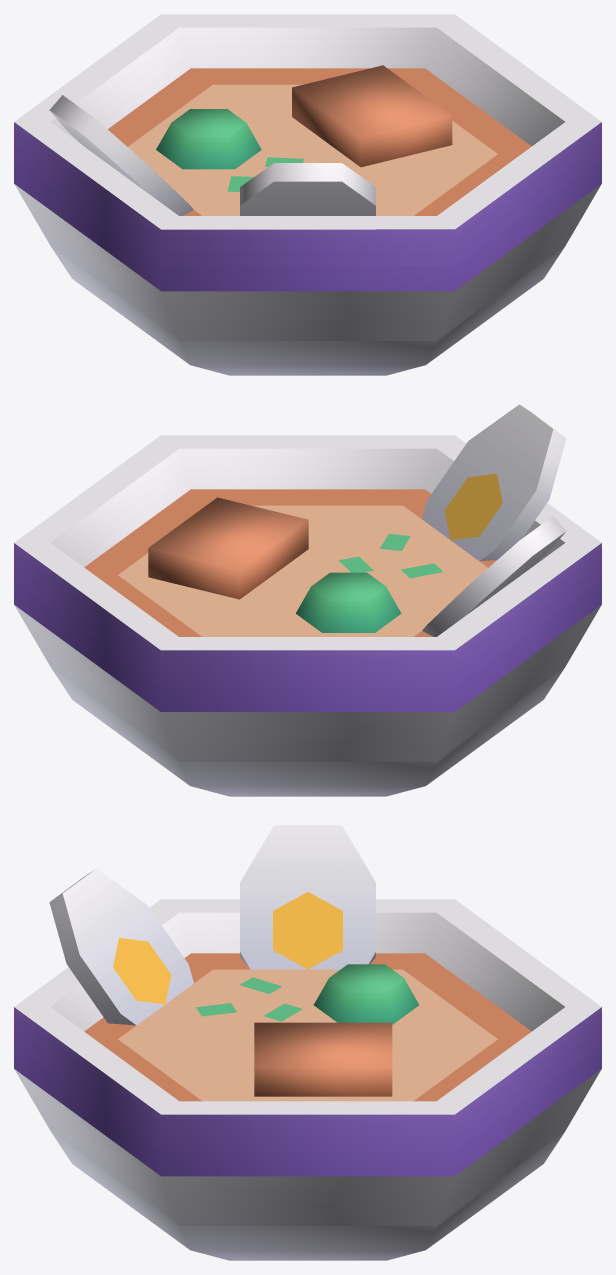
File: bowl-broth.068d942337.glb
3 renders of one model, top to bottom at view 1: azimuth 30°, elevation 25°; view 2: azimuth 150°, elevation 25°; view 3: azimuth 270°, elevation 25°, orthographic.
Parts seen in each view (by area): view 1: bowl-broth, Group; view 2: bowl-broth, Group; view 3: bowl-broth, Group.
Boxes of the visible parts, box(x1,y1,x2,y2) form: bowl-broth: box(14, 14, 601, 375); Group: box(156, 109, 261, 169); bowl-broth: box(14, 404, 601, 796); Group: box(296, 572, 401, 632); bowl-broth: box(14, 825, 601, 1260); Group: box(314, 964, 418, 1024).
Bounding box in the file's own units: 0.5262 × 0.2903 × 0.5798.
1 material, 1 textured.
